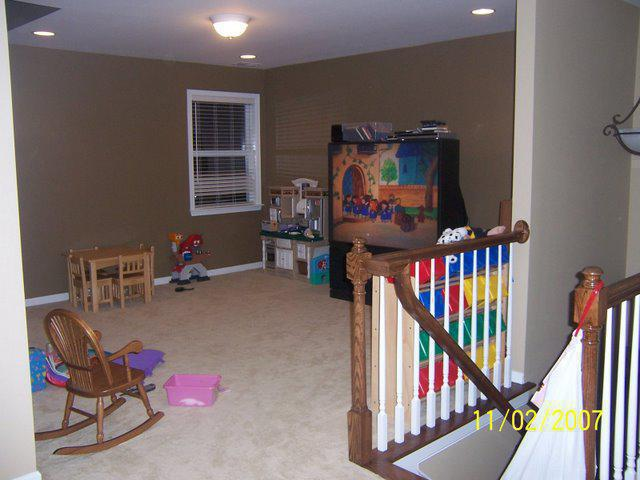Escaleras: (344, 232, 632, 475)
